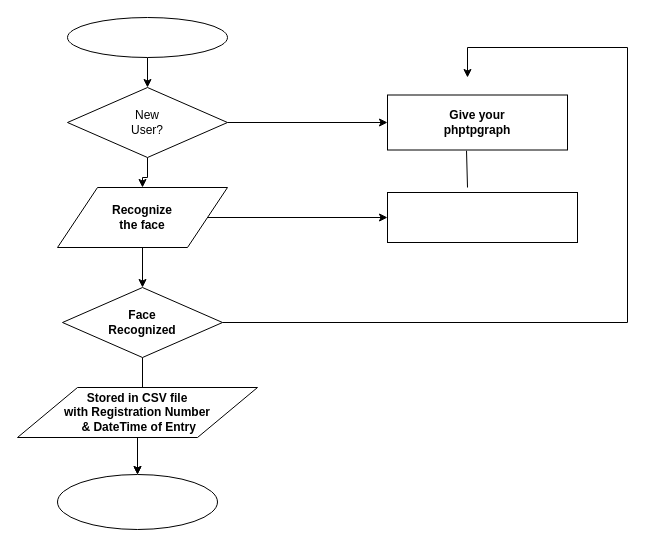
Image size: 653x547. Some labels were removed from this diagram. Here are the shapes that lost their labels. From the top down, the box of each, then its label:
(66, 16, 228, 58): Start
(386, 192, 578, 242): Store the face data in folder on your name
(56, 474, 218, 530): End
